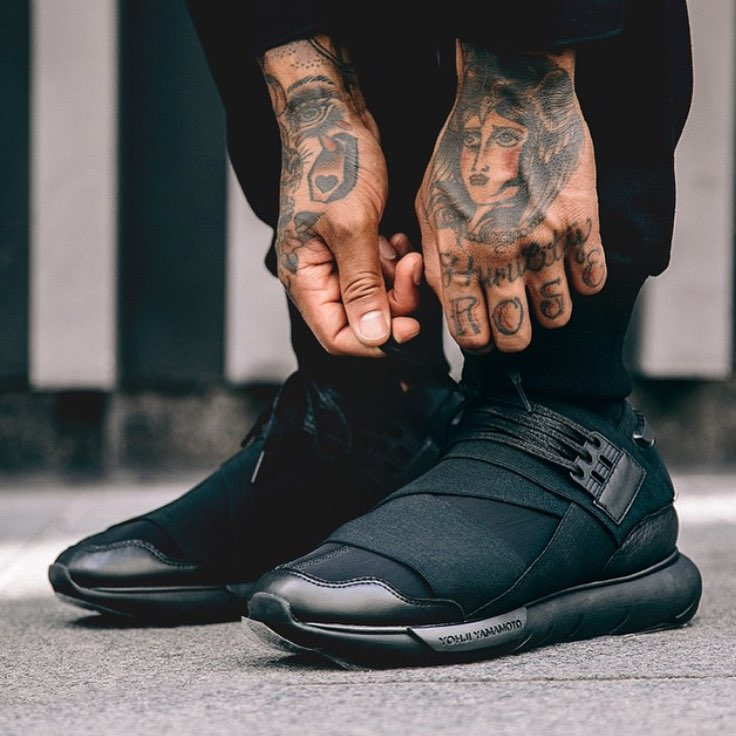sneaker: (227, 344, 728, 683), (34, 343, 473, 645)
